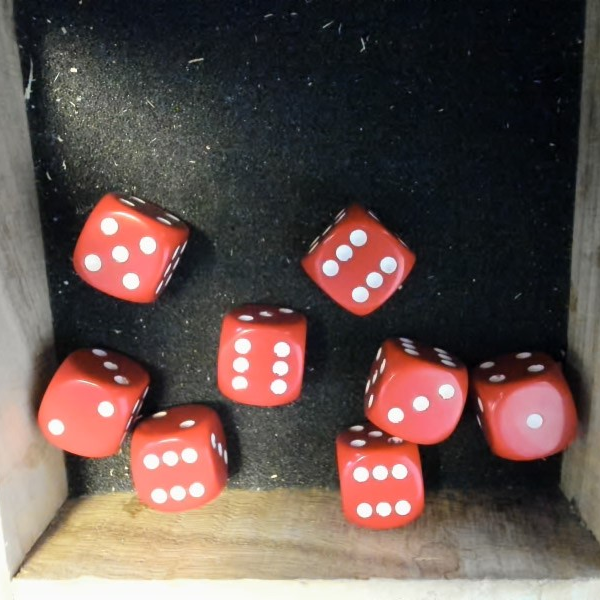red_die_pip1: (471, 345, 576, 468)
red_die_pip2: (26, 334, 152, 474)
red_die_pip3: (350, 323, 476, 453)
red_die_pip5: (61, 180, 197, 315)
red_die_pip6: (293, 192, 430, 330), (121, 399, 240, 521), (213, 300, 310, 409), (340, 427, 421, 524)
